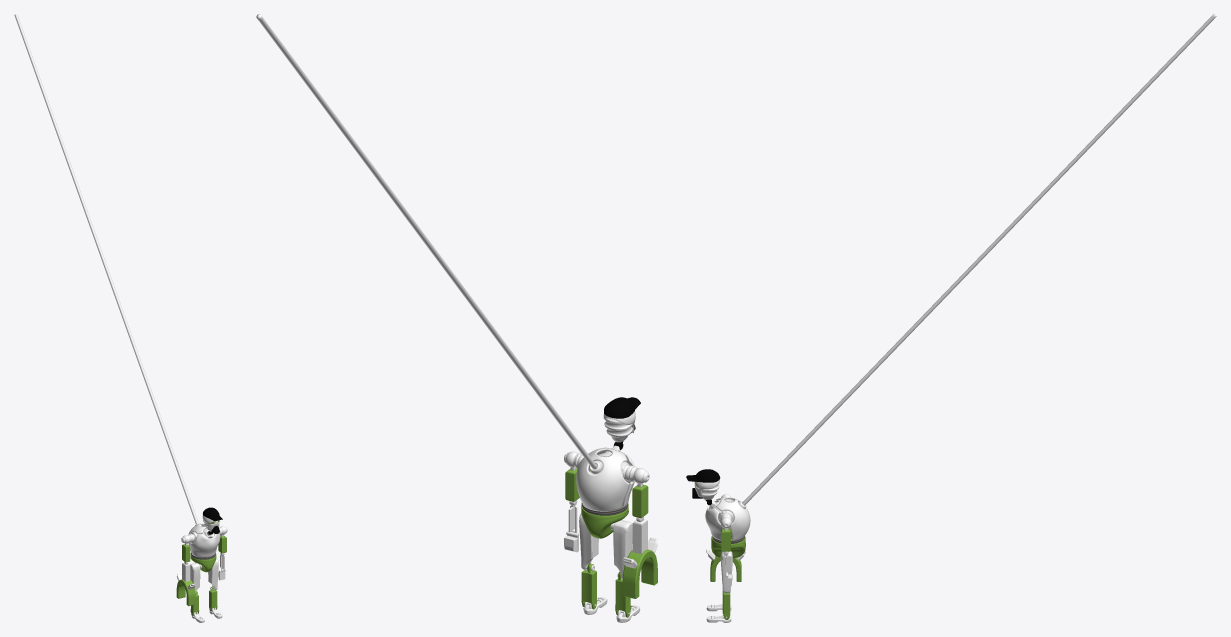
Rendered from johnnyPackage_blockout_02_model.fbx.
3 views of the same model, side by side, from view 1: azimuth 30°, elevation 25°; view 2: azimuth 150°, elevation 25°; view 3: azimuth 270°, elevation 25° (orthographic). The views are drawn at different scales.
Visible parts, largest first — view 1: wire_geo, upperBody_geo, R_lowerArm_geo, head_geo; view 2: wire_geo, upperBody_geo, R_lowerArm_geo, head_geo, R_upperLeg_geo, hips_geo, R_upperArm_geo, L_upperLeg_geo, L_lowerLeg_geo, L_upperArm_geo; view 3: wire_geo, upperBody_geo, head_geo.
Part boxes in pixels (x1,y1,x2,y2): wire_geo: (14, 14, 198, 524); upperBody_geo: (187, 523, 222, 557); R_lowerArm_geo: (176, 561, 195, 606); head_geo: (202, 507, 222, 534); wire_geo: (256, 14, 597, 469); upperBody_geo: (573, 447, 637, 511); R_lowerArm_geo: (622, 516, 657, 598); head_geo: (603, 397, 640, 449); R_upperLeg_geo: (610, 520, 632, 579); hips_geo: (581, 504, 628, 538); R_upperArm_geo: (632, 468, 649, 518); L_upperLeg_geo: (579, 513, 598, 570); L_lowerLeg_geo: (581, 563, 597, 609); L_upperArm_geo: (564, 451, 579, 501); wire_geo: (742, 14, 1216, 505); upperBody_geo: (705, 496, 750, 540); head_geo: (686, 469, 720, 505).
Bounding box in the file's own units: 93.58 × 926 × 740.
